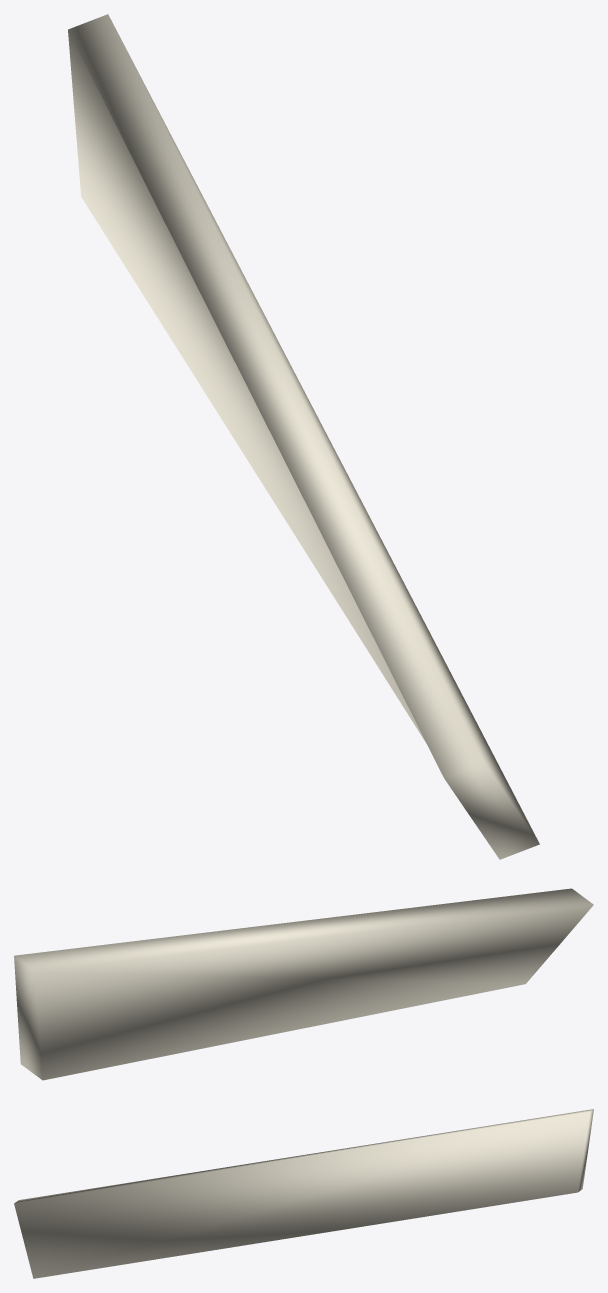
The picture shows the model from 3 angles, top to bottom: view 1: azimuth 30°, elevation 25°; view 2: azimuth 150°, elevation 25°; view 3: azimuth 270°, elevation 25°; orthographic projection. The views are drawn at different scales.
Visible parts, largest first — view 1: ZA_5d0c37d19f379117; view 2: ZA_5d0c37d19f379117; view 3: ZA_5d0c37d19f379117.
Boxes of the visible parts, box(x1,y1,x2,y2) form: ZA_5d0c37d19f379117: box(68, 14, 539, 859); ZA_5d0c37d19f379117: box(14, 888, 593, 1080); ZA_5d0c37d19f379117: box(14, 1109, 593, 1278).
Size of the model in its own units: 0.00313 by 0.00511 by 0.0133.
